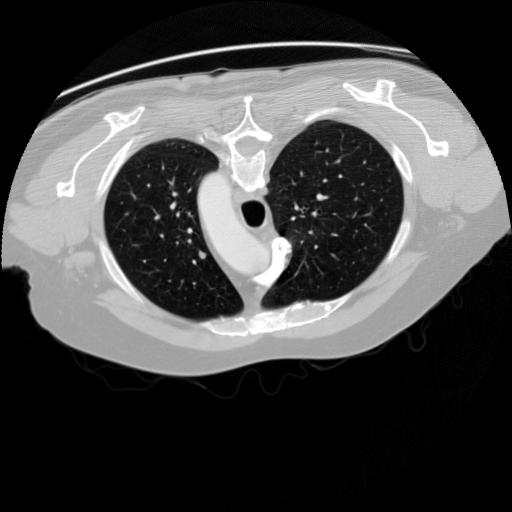nodule: (195, 249, 210, 264)
